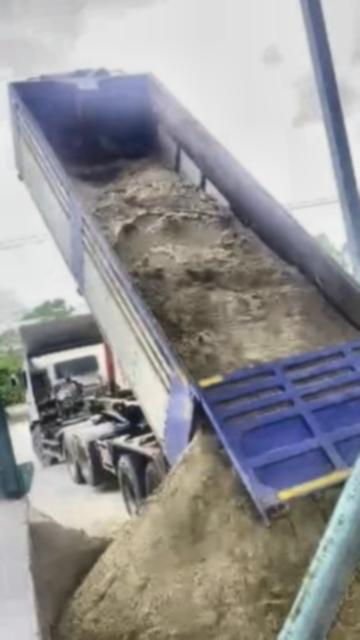sand: (79, 161, 358, 378), (57, 434, 334, 640), (304, 463, 360, 640), (30, 508, 109, 625)
